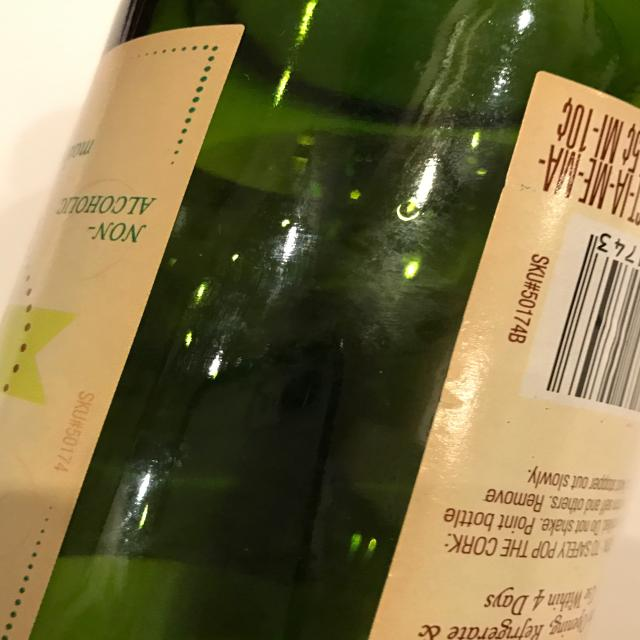glass: (6, 0, 636, 640)
